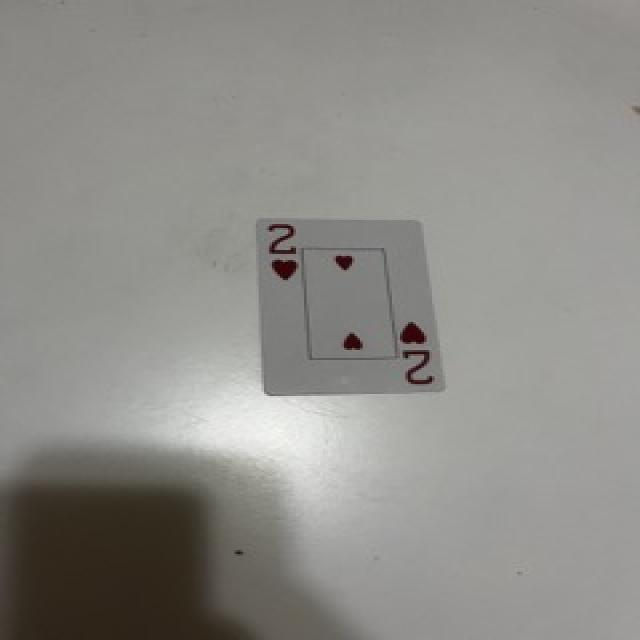2 of hearts: (258, 220, 445, 393)
